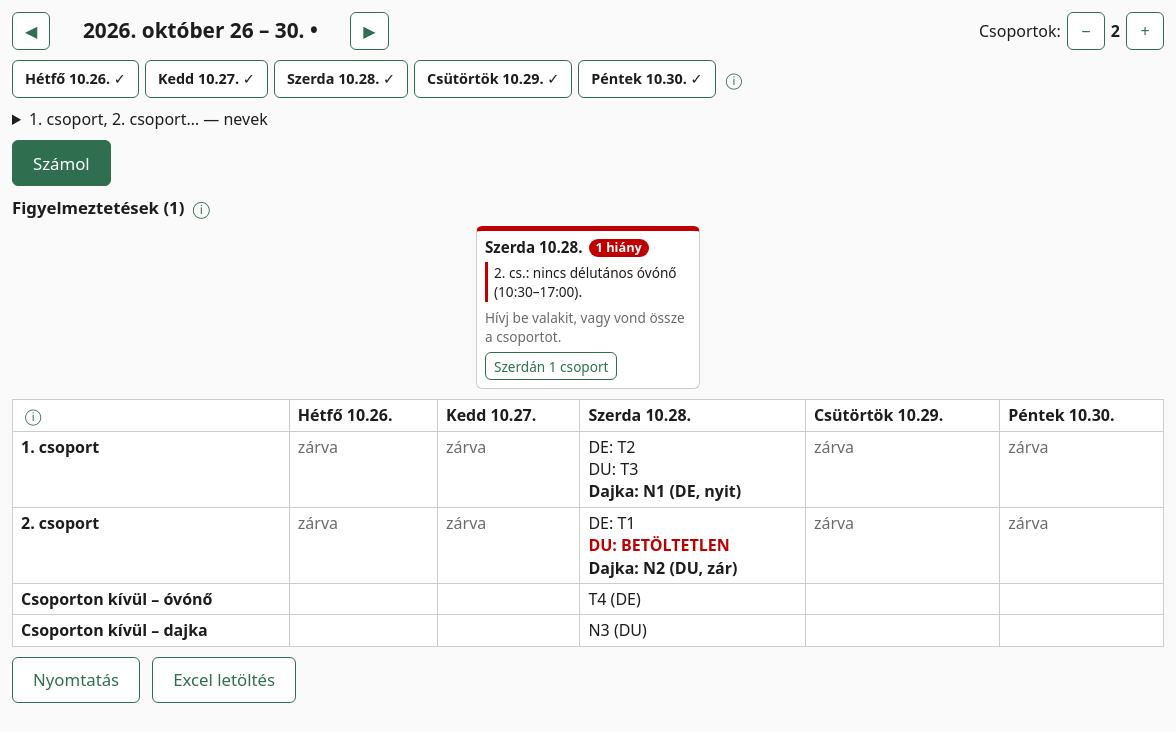
Test: RosterScreen undo › marks what a quick fix changed, and undoes it with one click
Click the button "Szerdán 1 csoport": (551, 366) [485, 352, 618, 380]
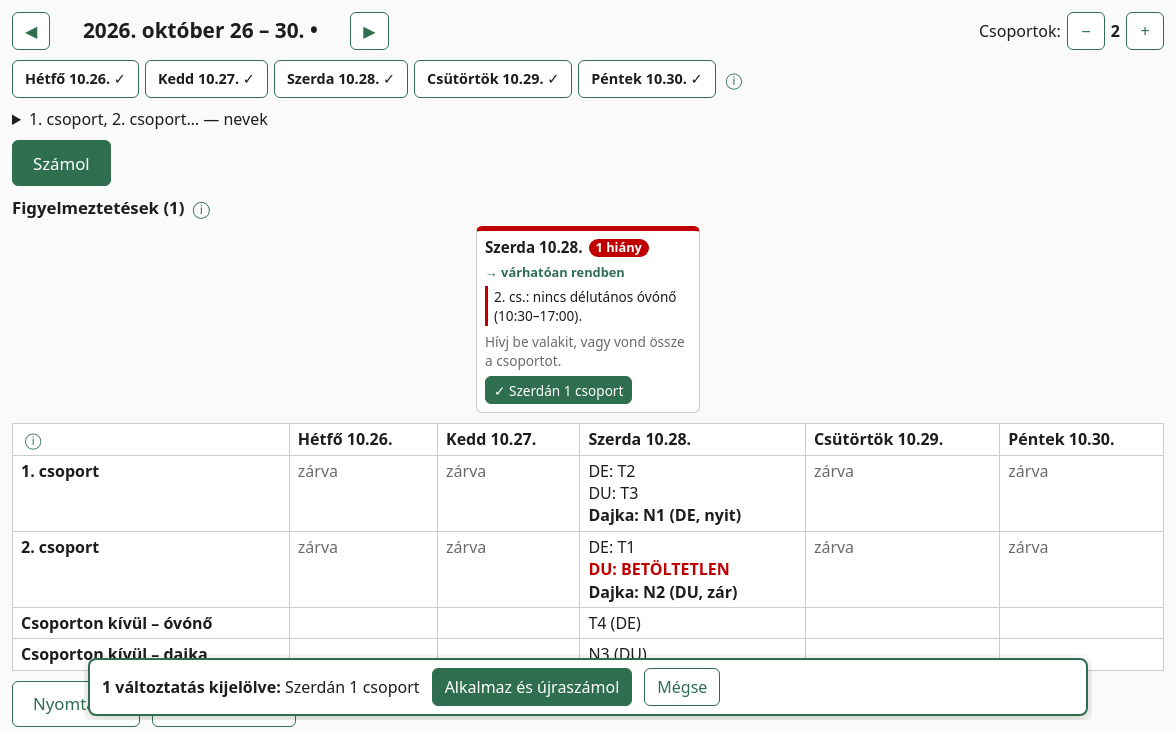
Click the button "Alkalmaz és újraszámol": (532, 687) [432, 668, 632, 706]
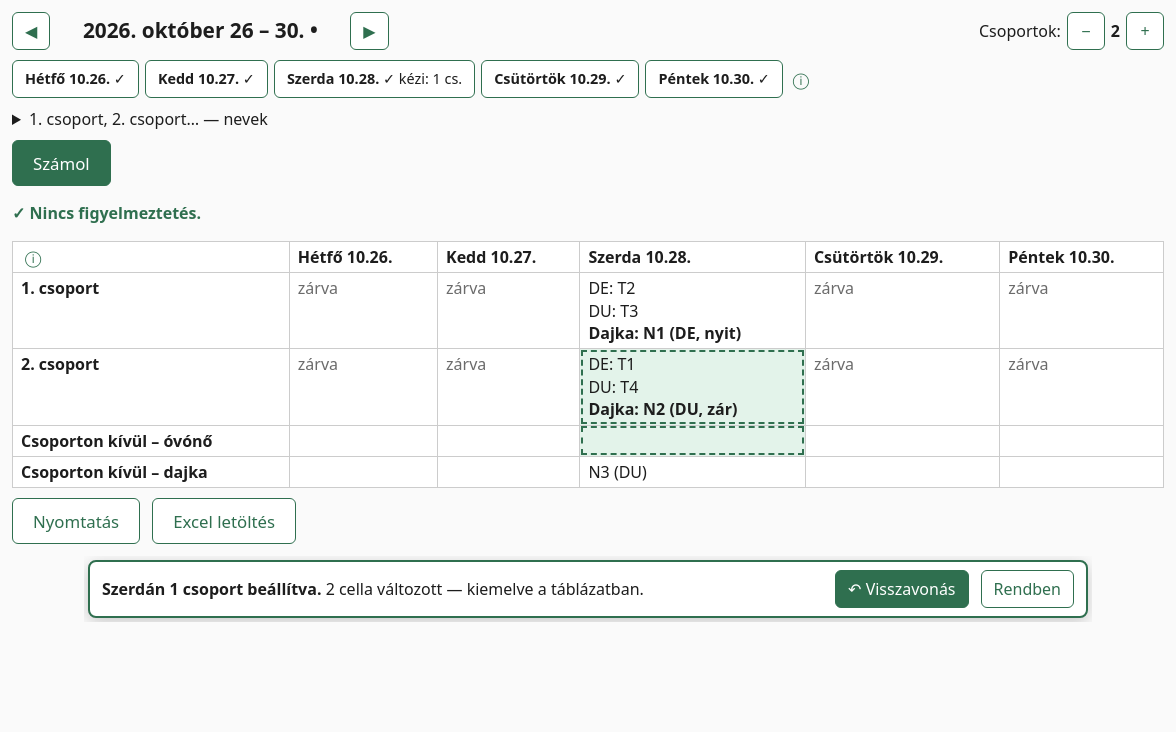
Result: the text "Szerdán 1 csoport beállítva." is shown at [102, 578, 322, 600]
Result: the text "2 cella változott — kiemelve a táblázatban." is shown at [326, 578, 644, 600]
Result: the number of cells with class "changed" is 2 at [580, 349, 805, 425]; [580, 425, 805, 456]
Click the button "↶ Visszavonás": (902, 589) [835, 570, 969, 608]
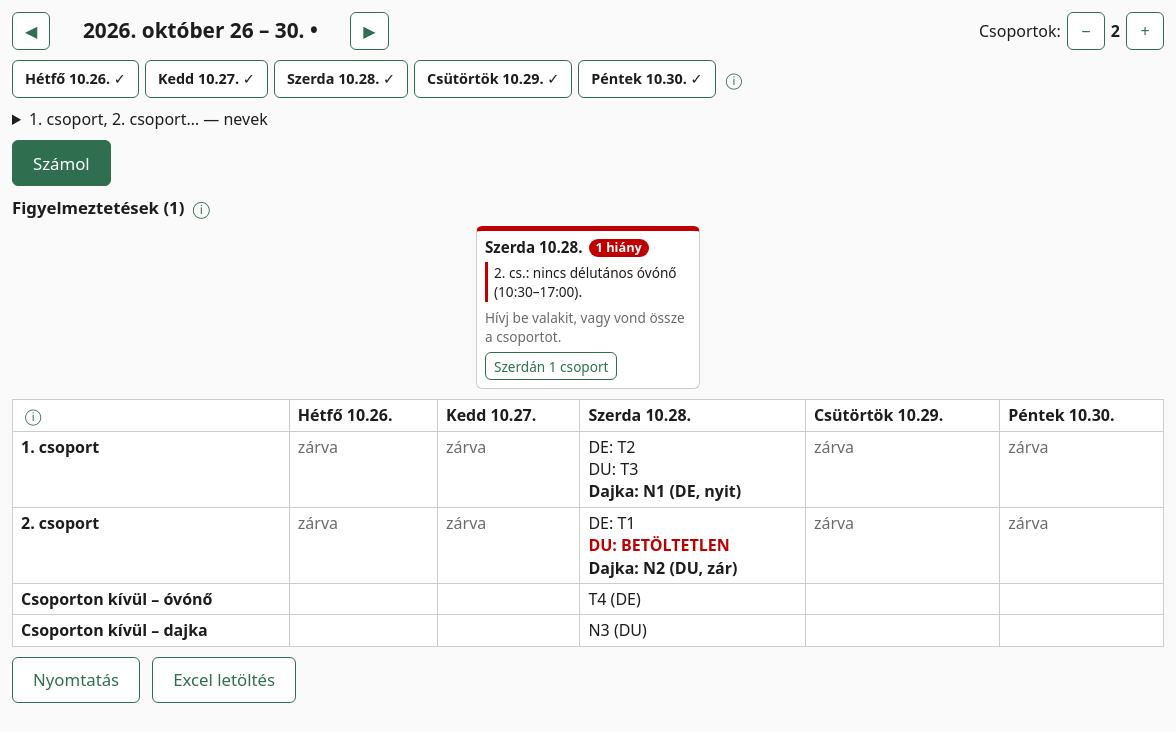
Expected: the button "Szerdán 1 csoport" is shown, [485, 352, 618, 380]
Result: the text "Szerdán 1 csoport beállítva." is gone
